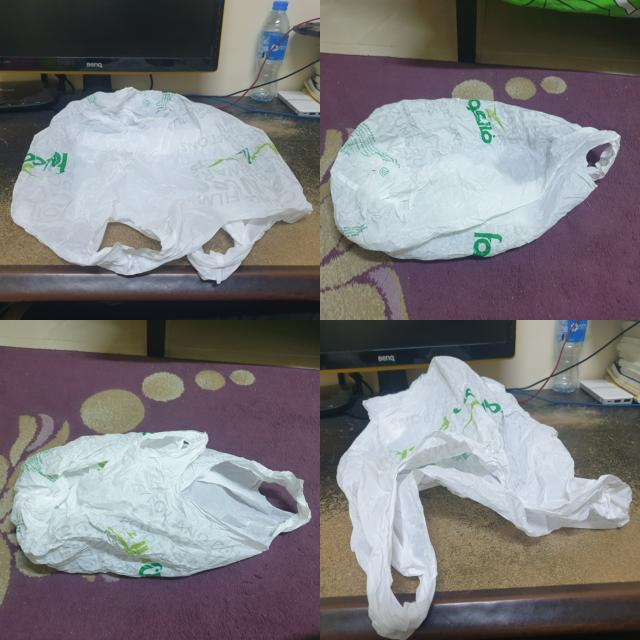Single-layer Plastic: (338, 356, 631, 640), (11, 88, 311, 282), (330, 99, 620, 260), (11, 430, 311, 578)
